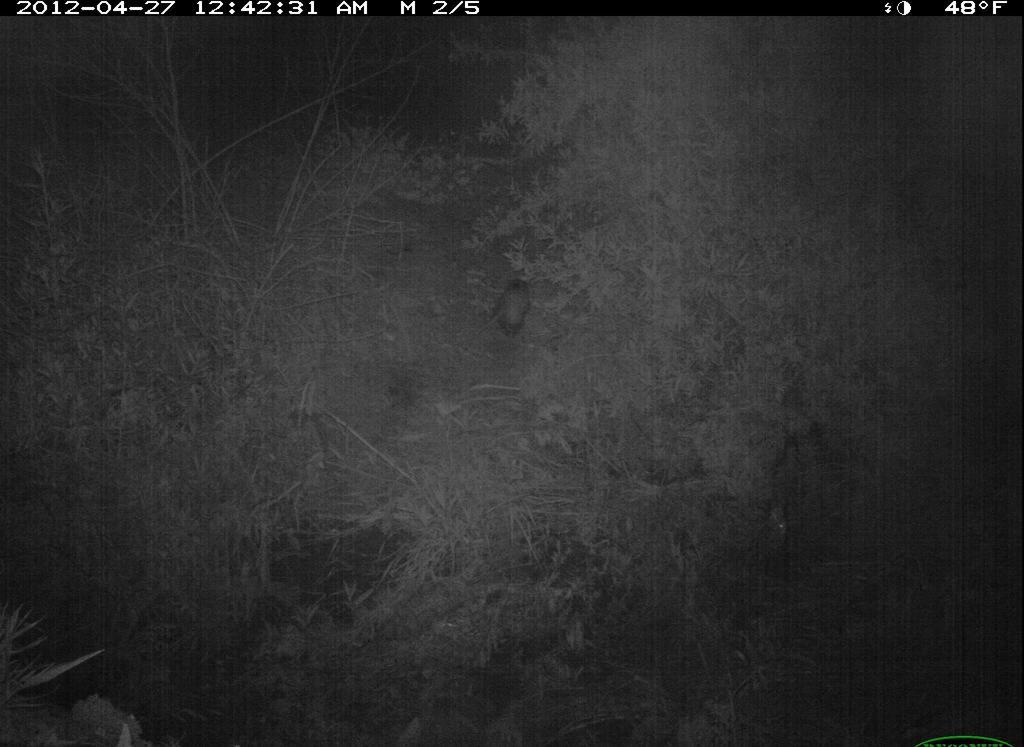opossum: (471, 276, 534, 348)
